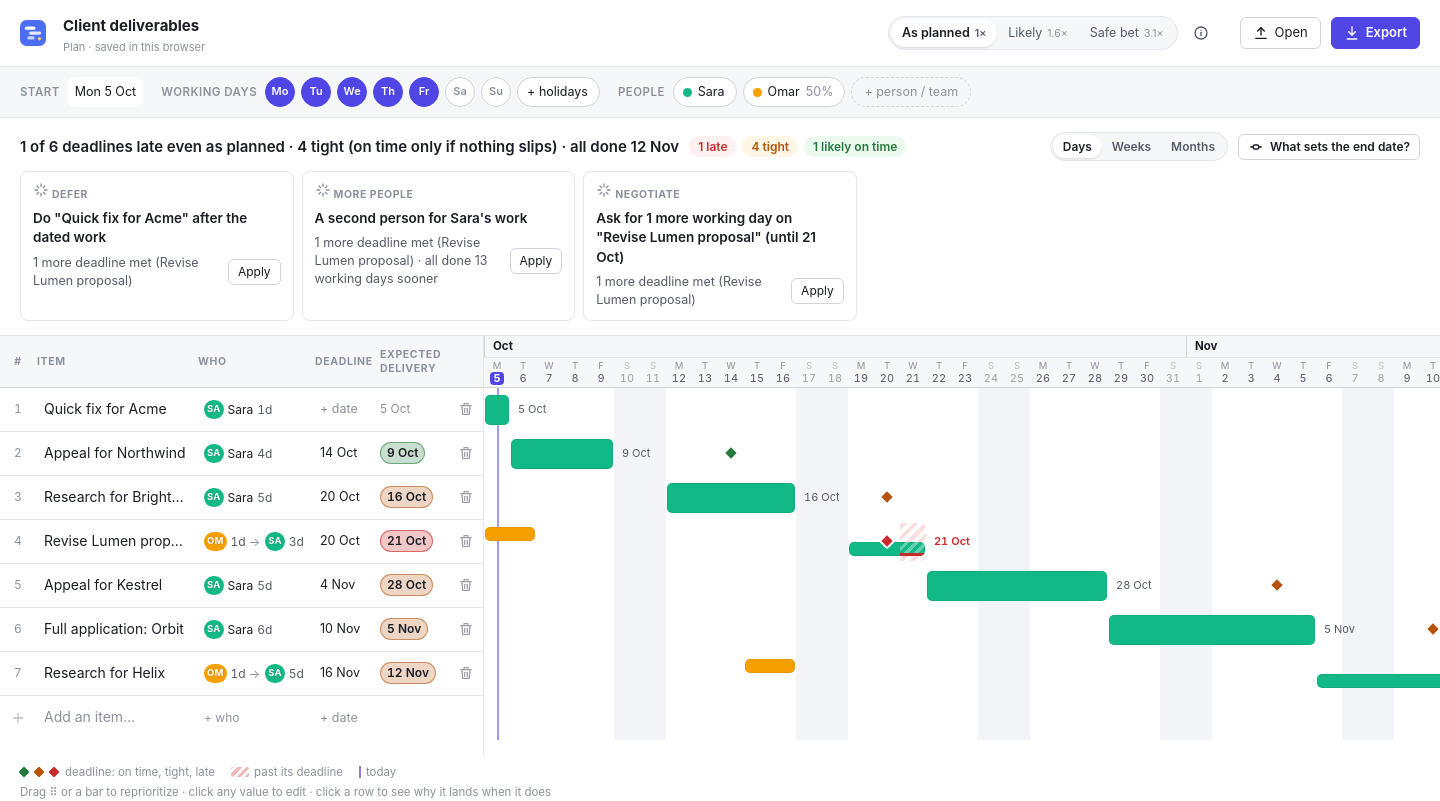
Scenario: selection, dragging bars, lenses, colours and title › three lenses with their multipliers, and a guide that is one table and one short note, nothing folded away
Click the button "Likely 1.6×" at [1038, 33], box [997,19,1079,47]
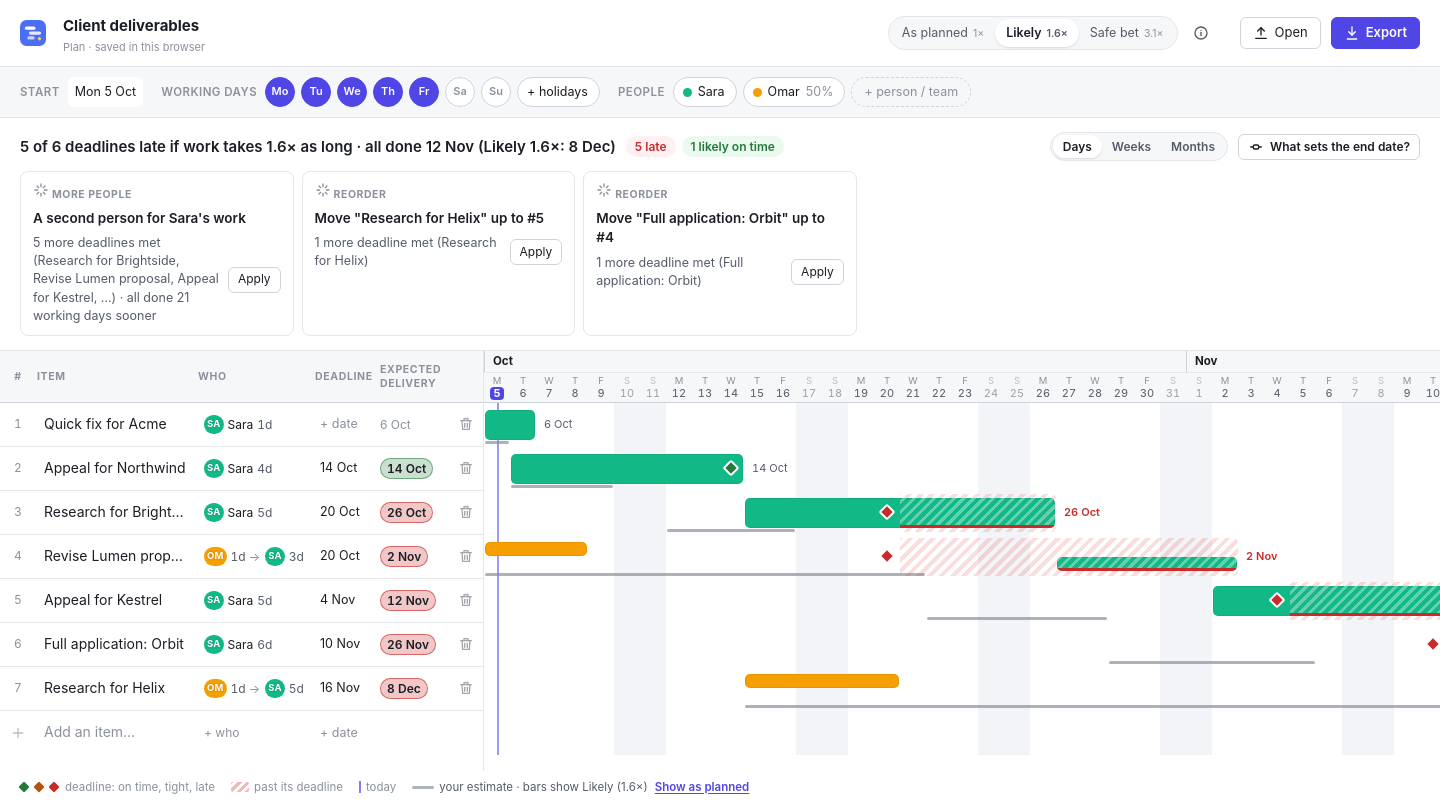
Click the button named "How the forecast lenses work" at [1200, 33], box [1188,20,1214,46]
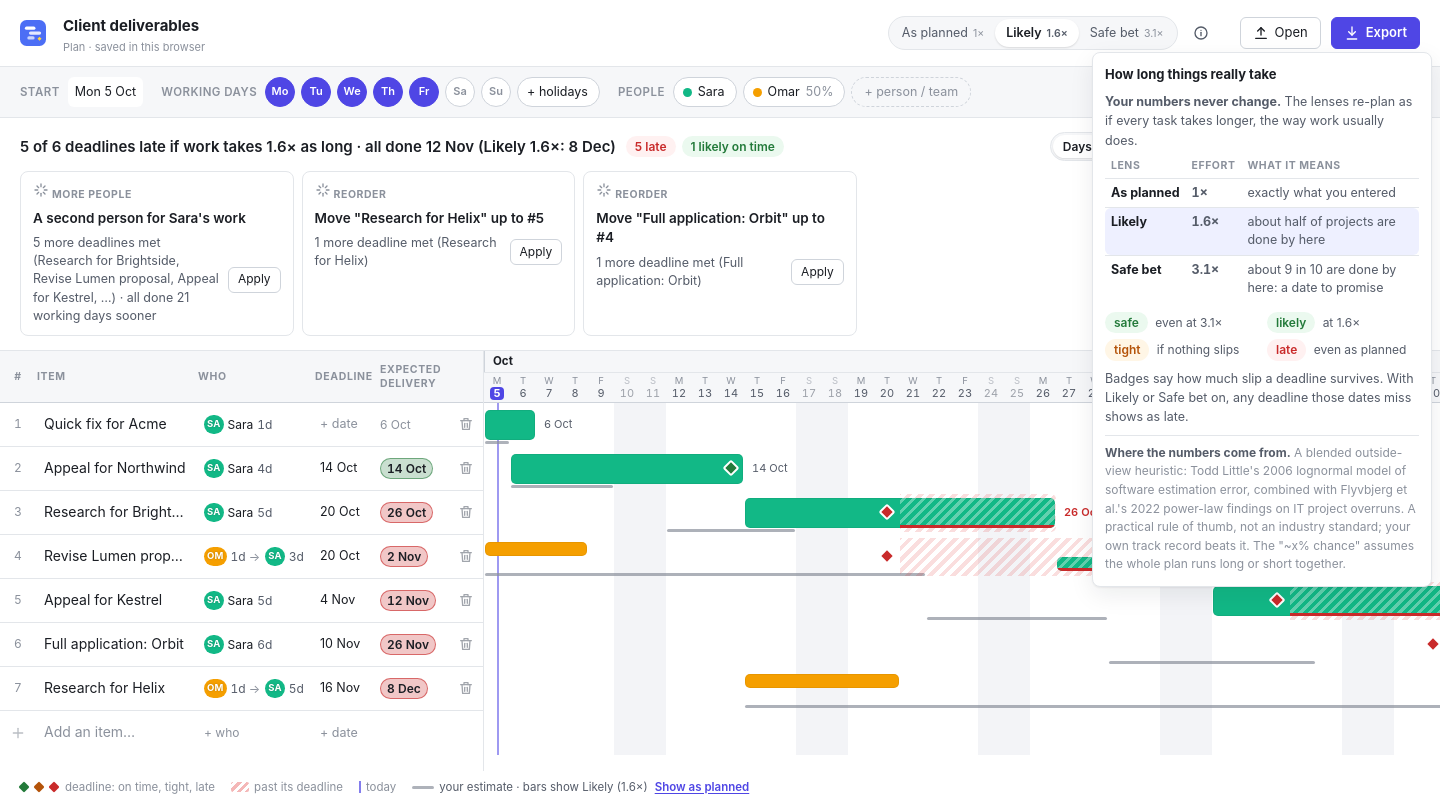
Check: the row "Likely 1.6× about half of projects are done by here" is shown, box [1105,208,1419,255]
